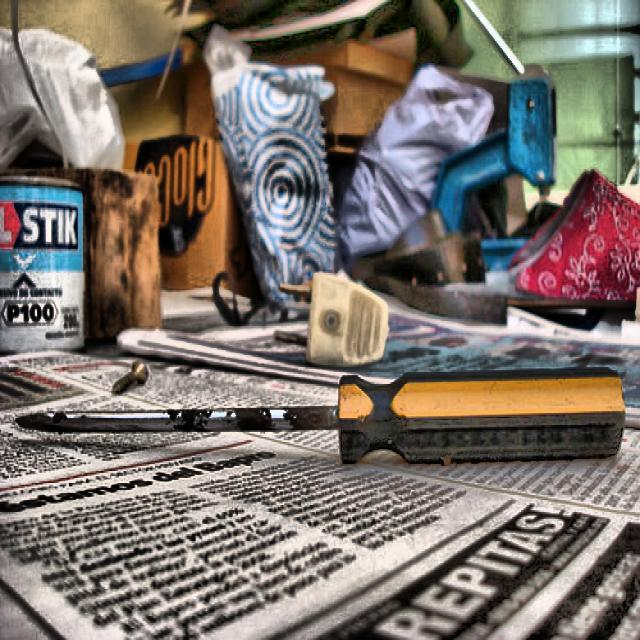screwdriver: (16, 368, 626, 464)
